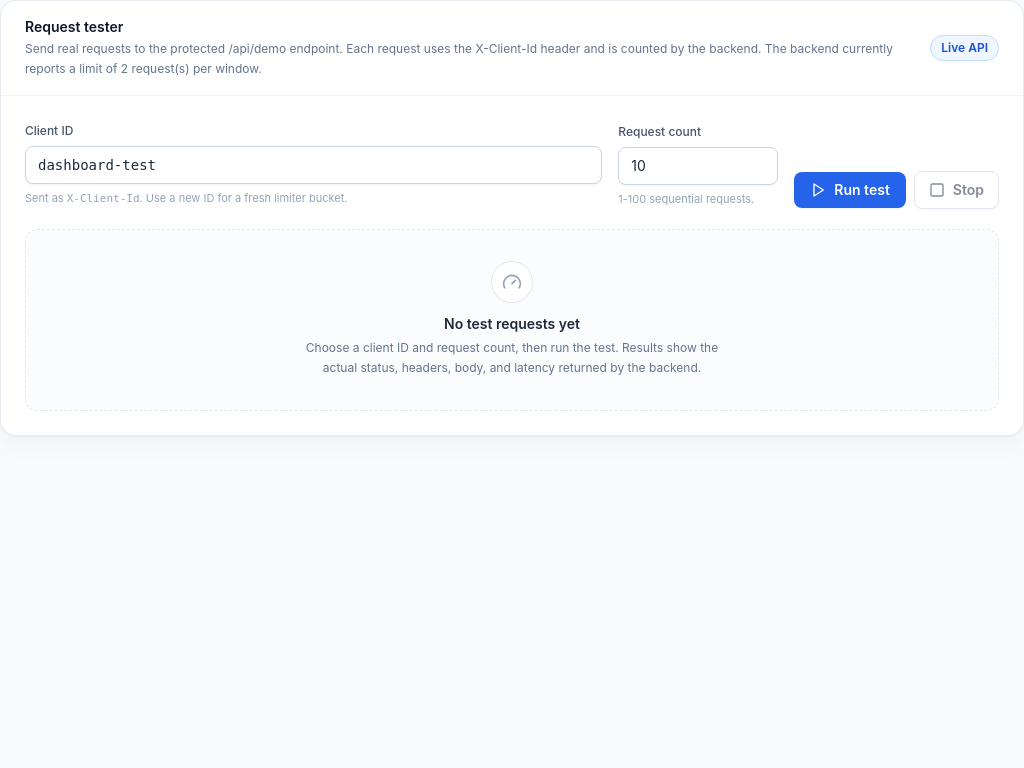
Test: RequestTester › shows loading progress and reports network failures
This screenshot has width=1024, height=768.
Later steps or results of the test are not shown.
Replace the text in the field labelled "Client ID" with "phase1-loading" at (314, 165), box [25, 146, 602, 184]
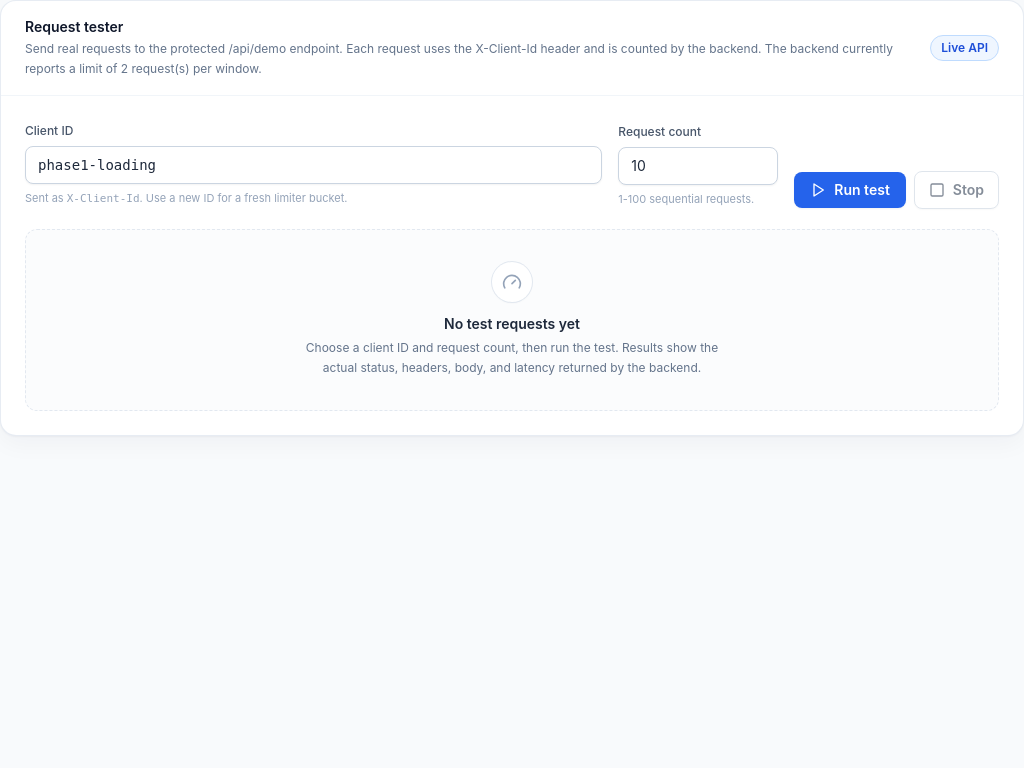
Replace the text in the number field labelled "Request count" with "1" at (698, 166), box [618, 147, 778, 185]
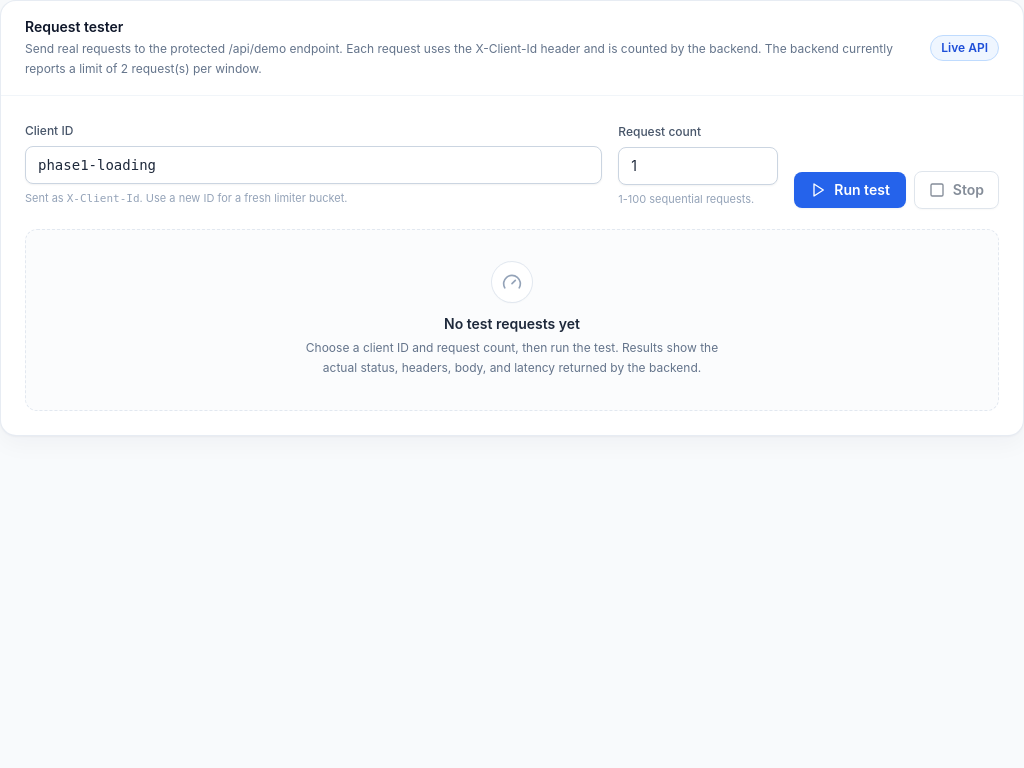
Click the button "Run test" at (850, 190), box [794, 172, 906, 208]
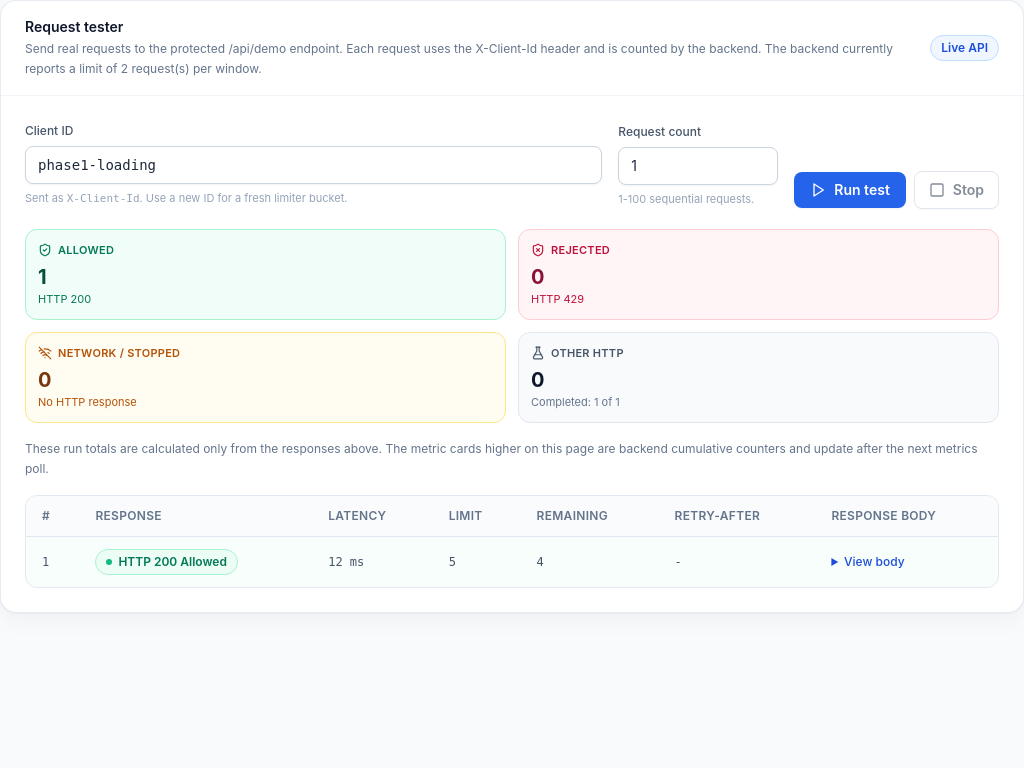
Expected: the text "HTTP 200 Allowed" is shown, [95, 549, 238, 575]
